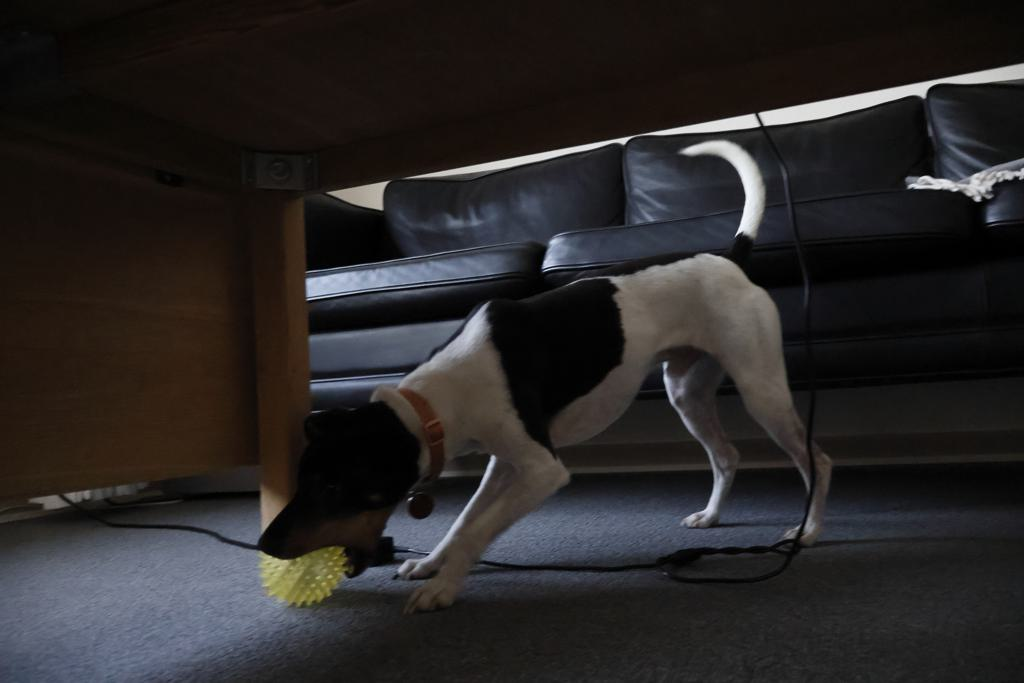Dog: (239, 130, 844, 628)
